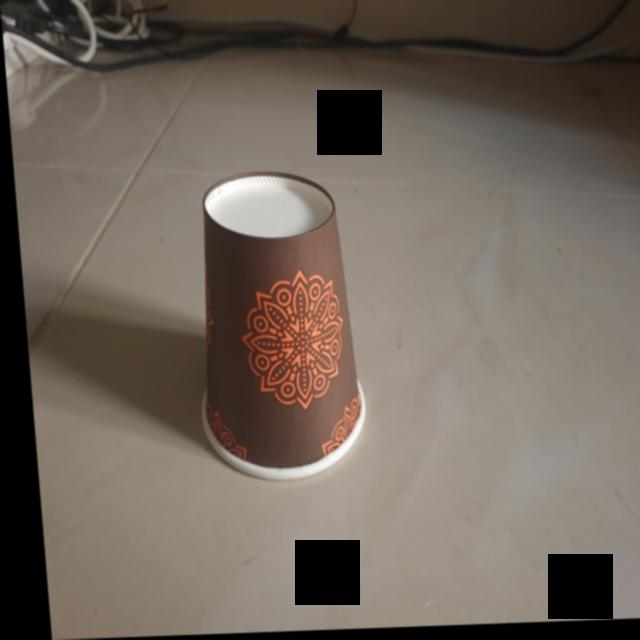cups: (176, 164, 367, 489)
